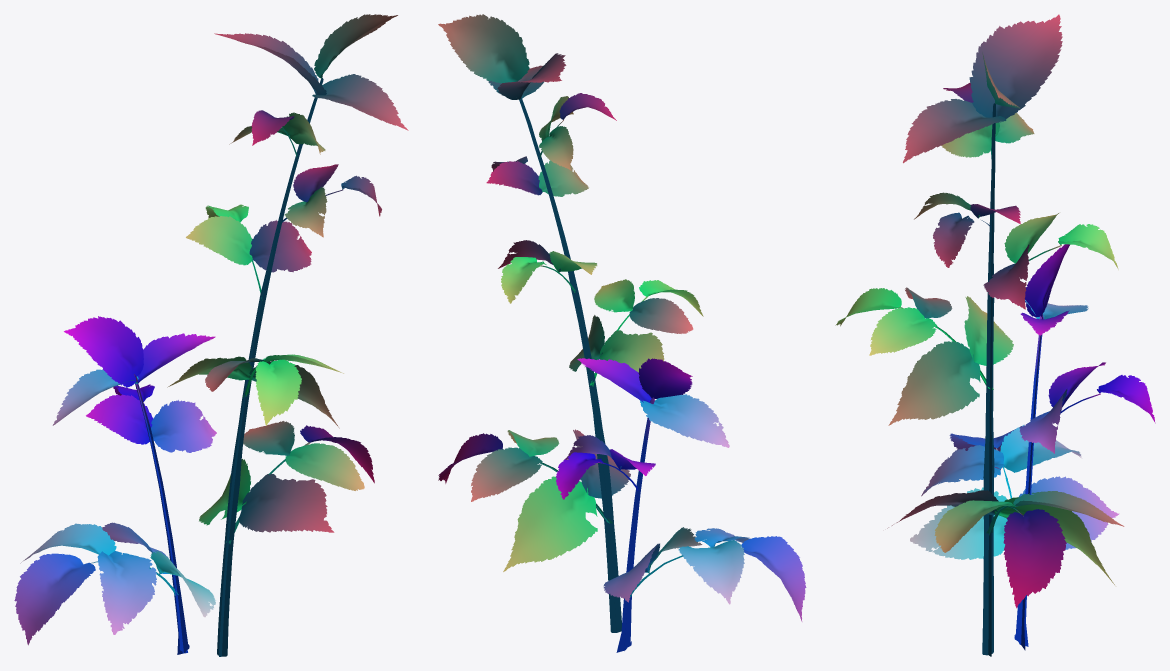
Rendered from Raspberry_wf0oefeja_Raw_wf0oefeja_VarB_LOD0.fbx.
3 renders of one model, left to right at view 1: azimuth 30°, elevation 25°; view 2: azimuth 150°, elevation 25°; view 3: azimuth 270°, elevation 25°, orthographic. The views are drawn at different scales.
Parts seen in each view (by area): view 1: _er5e_VarB_High; view 2: _er5e_VarB_High; view 3: _er5e_VarB_High.
Part boxes in pixels (x1,y1,x2,y2): _er5e_VarB_High: (14,14,408,656); _er5e_VarB_High: (438,14,806,652); _er5e_VarB_High: (835,14,1155,656).
Bounding box in the file's own units: 20.65 × 32.21 × 13.82.
